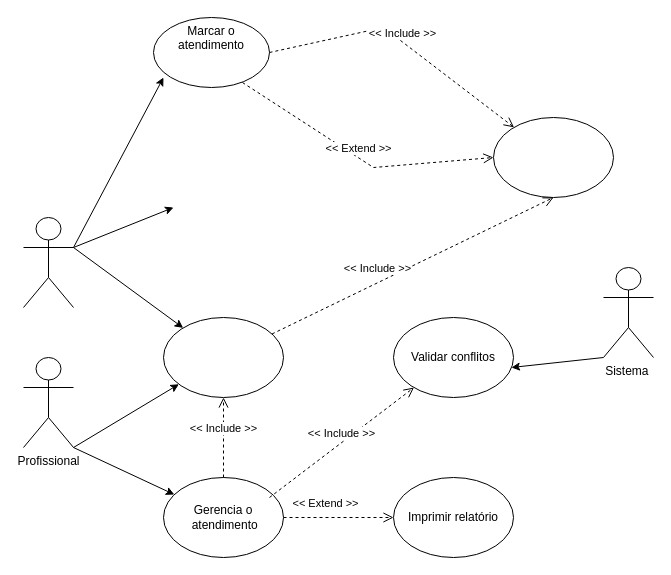
Some shapes in this 671 by 575 pixel diagram are drawn without their labels. The shapes that lost their labels are listed below. From the top down, each one's centre as x and y in pixels, then its label:
(553,157): Visualiza aten dimento
(48,262): Cliente
(223,357): Autenticar
